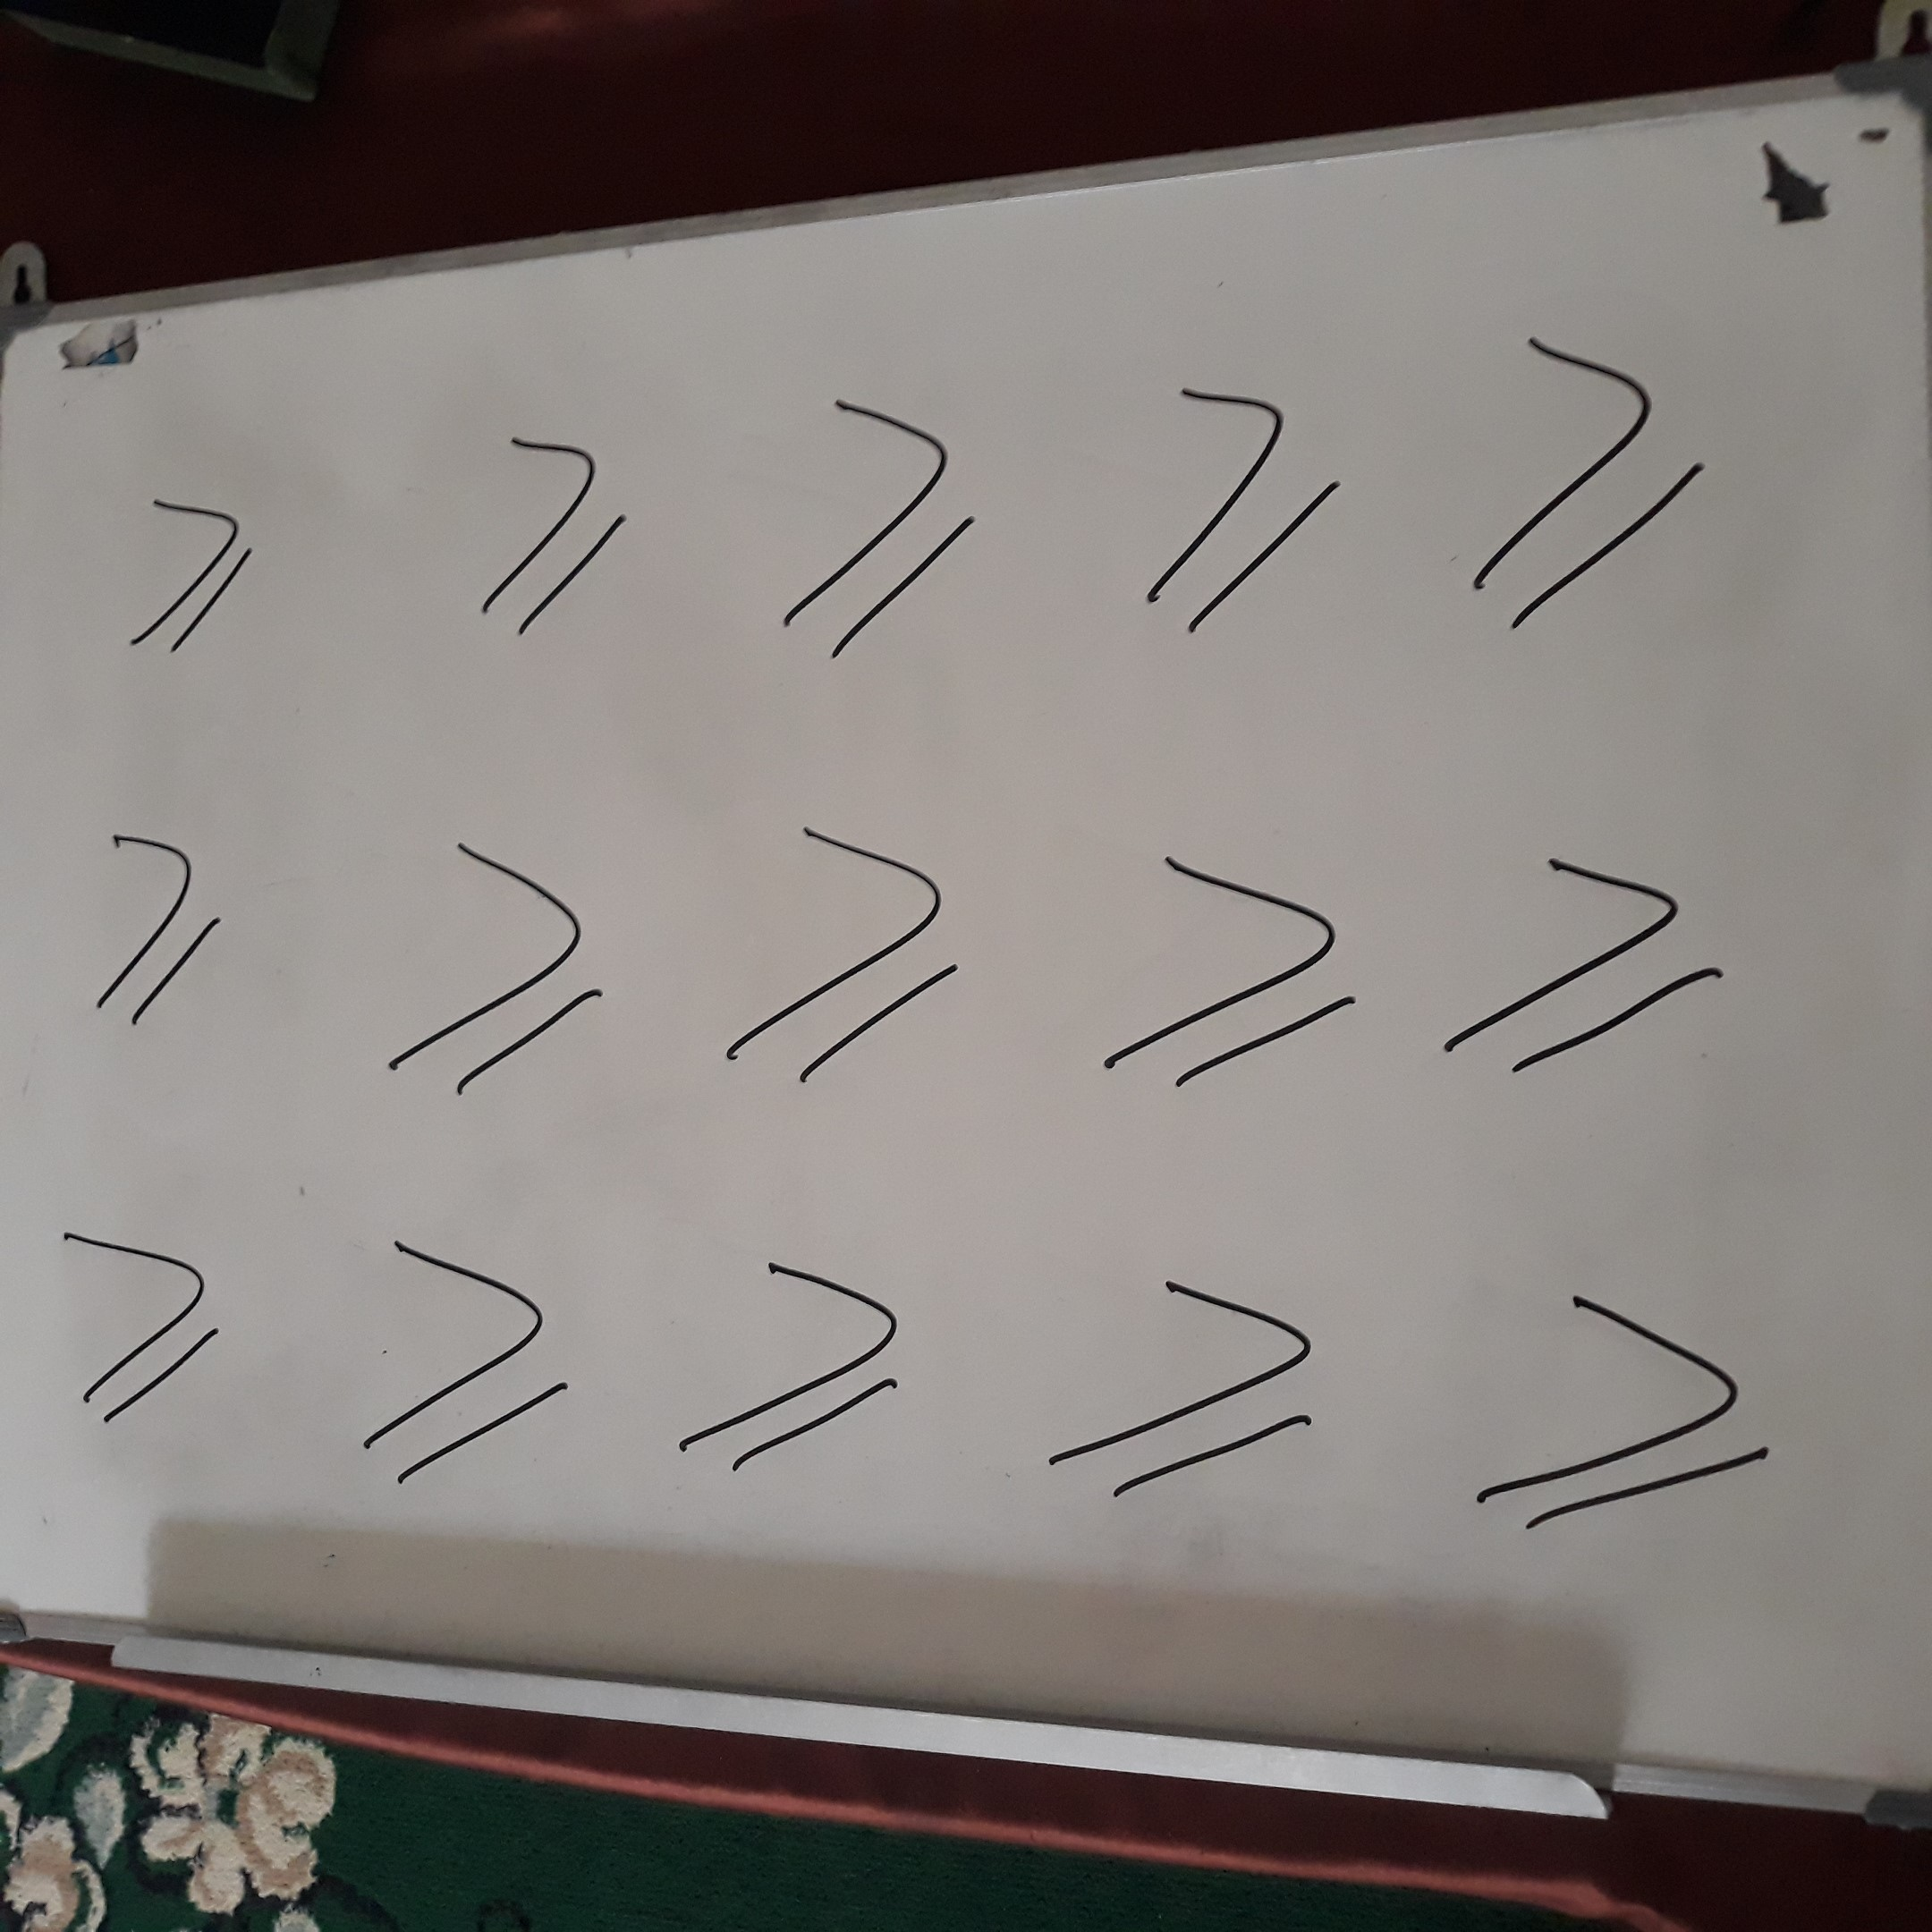morethan-equal: (1438, 320, 1740, 666), (1425, 784, 1724, 1123), (1015, 1235, 1350, 1521), (1453, 1259, 1788, 1546), (1093, 810, 1368, 1132), (647, 1220, 936, 1508), (716, 795, 979, 1110), (364, 818, 624, 1117), (339, 1212, 579, 1499), (772, 386, 999, 670), (1128, 360, 1355, 644), (30, 1197, 251, 1464), (60, 818, 265, 1046), (462, 424, 648, 653), (105, 481, 284, 679)
